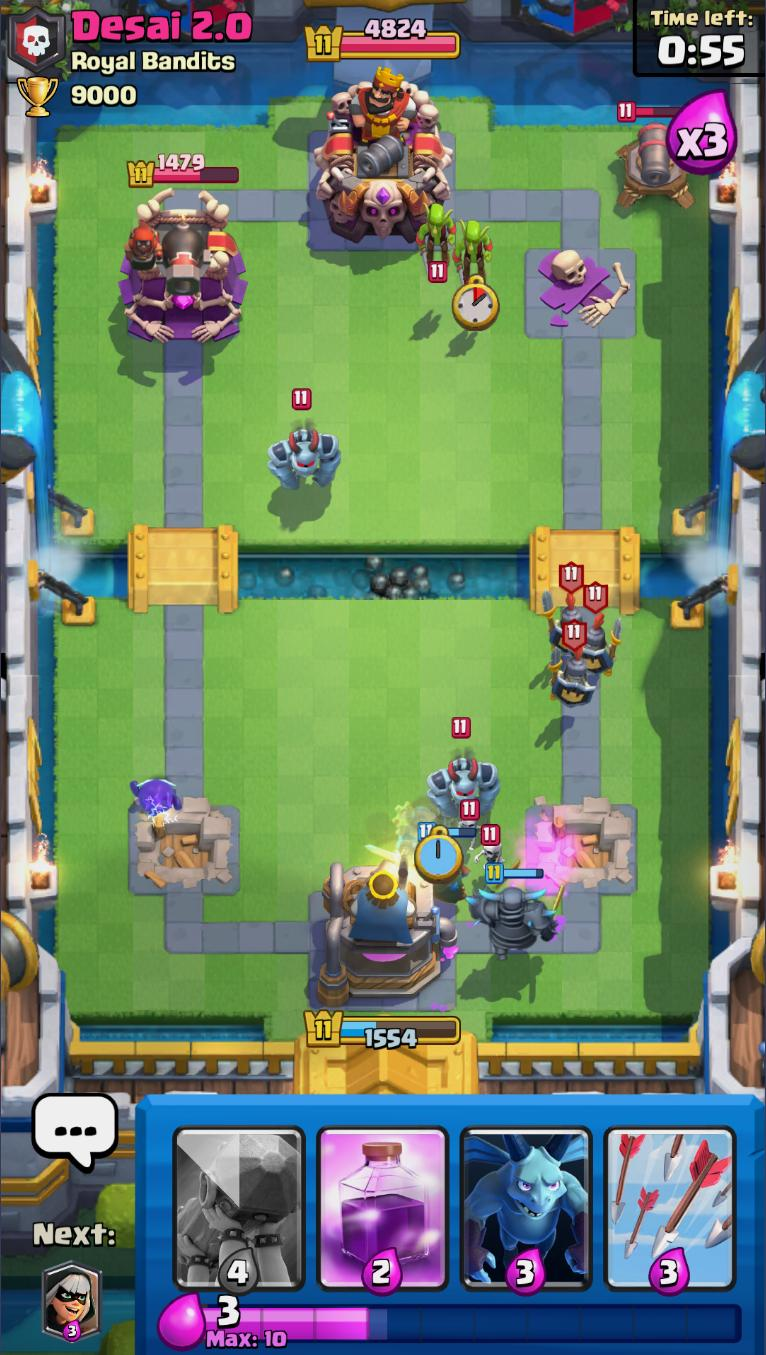ArrowDeck: (601, 1098, 741, 1296)
BanditNext: (40, 1260, 103, 1343)
BattleRamDeck: (167, 1096, 313, 1296)
Cannon: (615, 100, 697, 212)
Cannoneer: (123, 214, 207, 298)
Elixir: (201, 1295, 744, 1349)
EnemyTower: (119, 188, 249, 346)
EnemyTowerBrocken: (522, 249, 639, 341)
Goblin: (418, 202, 458, 282), (452, 218, 494, 293)
Guards: (548, 617, 596, 713), (580, 580, 623, 675), (541, 562, 585, 654)
KingTower: (312, 65, 455, 247)
KingTowerHP: (301, 18, 460, 65)
MegaMinion: (425, 717, 501, 823), (266, 388, 340, 494)
MinionsDeck: (453, 1098, 601, 1296)
MyBandit: (417, 821, 477, 903)
MyElectroSpirit: (127, 776, 186, 816)
MyKingHP: (302, 1006, 462, 1051)
MyKingTower: (314, 859, 458, 1008)
MyPekka: (469, 861, 566, 961)
MyPrincessTowerBrocken: (523, 800, 642, 900), (125, 801, 244, 899)
MyRoyaleGhost: (362, 799, 441, 863)
RageDeck: (311, 1097, 455, 1295)
Skeleton: (477, 824, 509, 876), (458, 801, 483, 851)
TowerPrincessHP: (127, 154, 242, 191)
